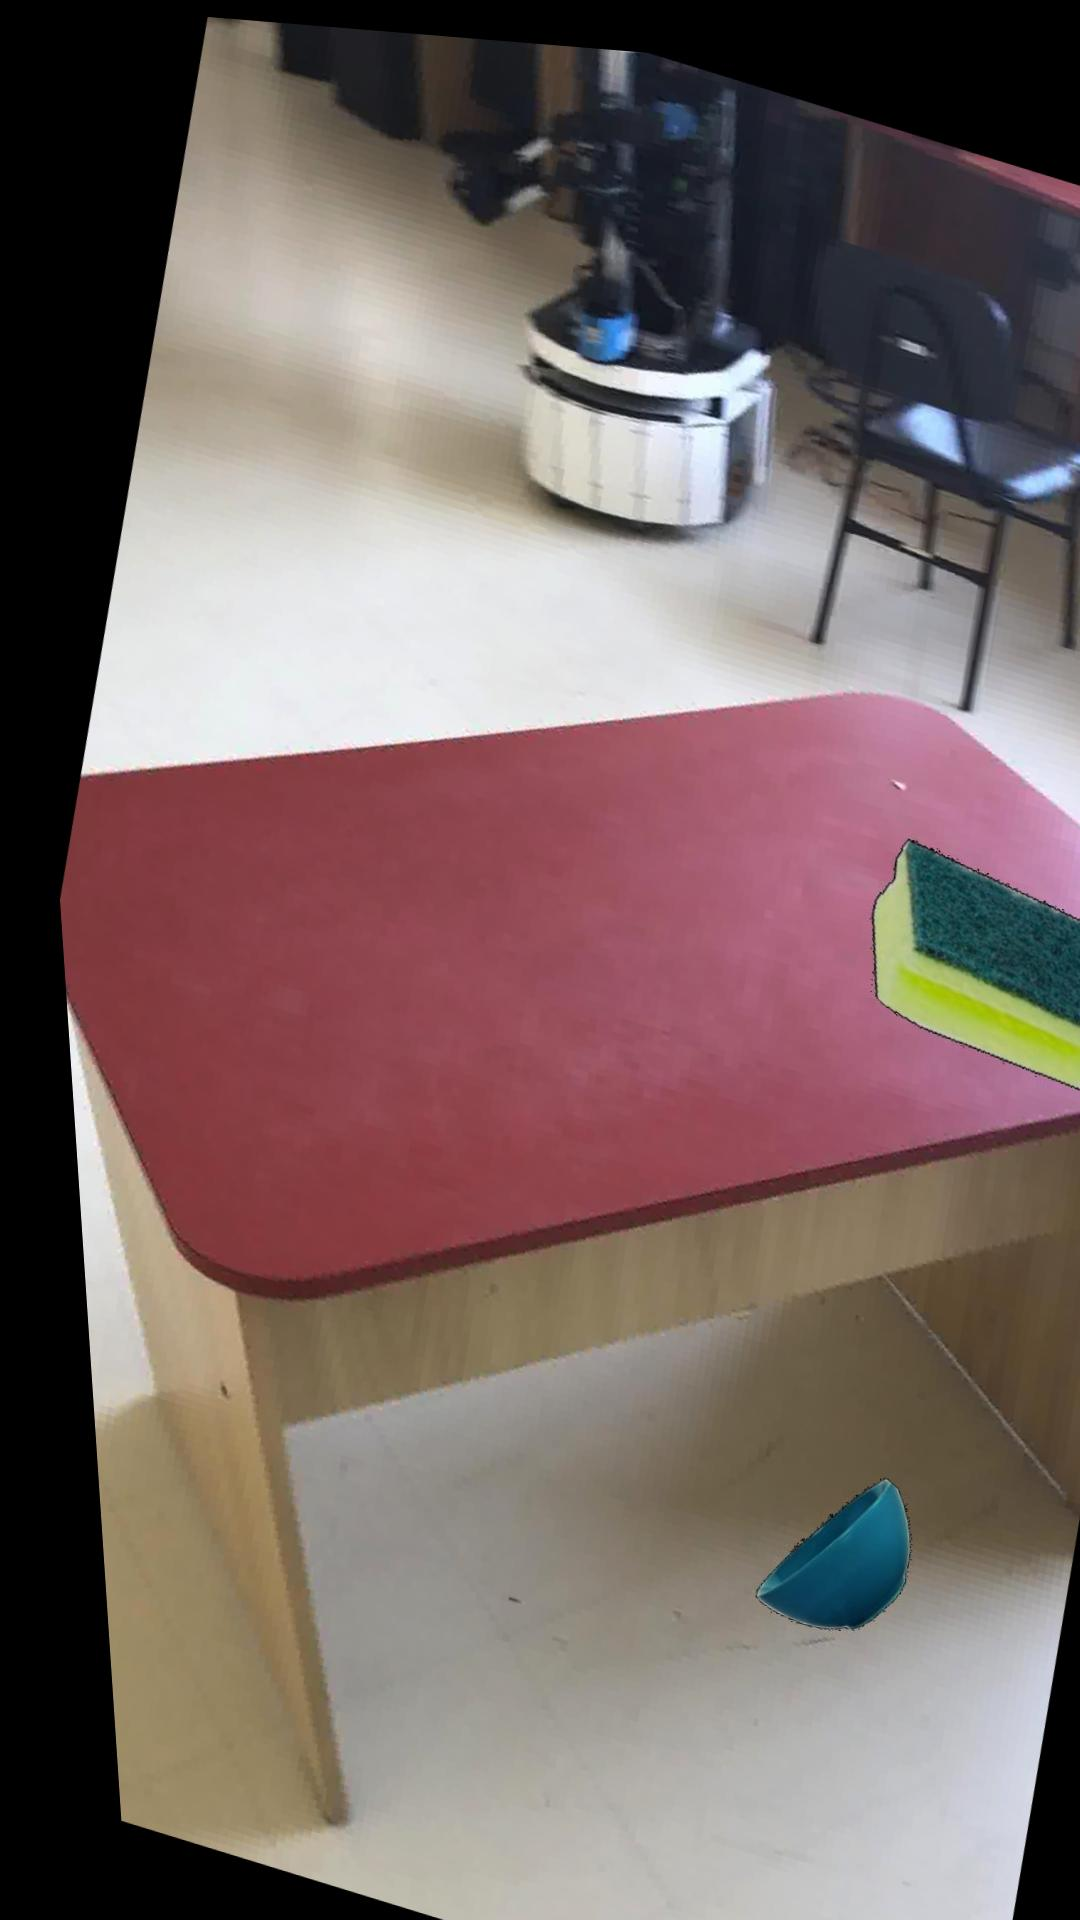bowl: (736, 1462, 891, 1615)
sponge: (861, 823, 1080, 1072)
